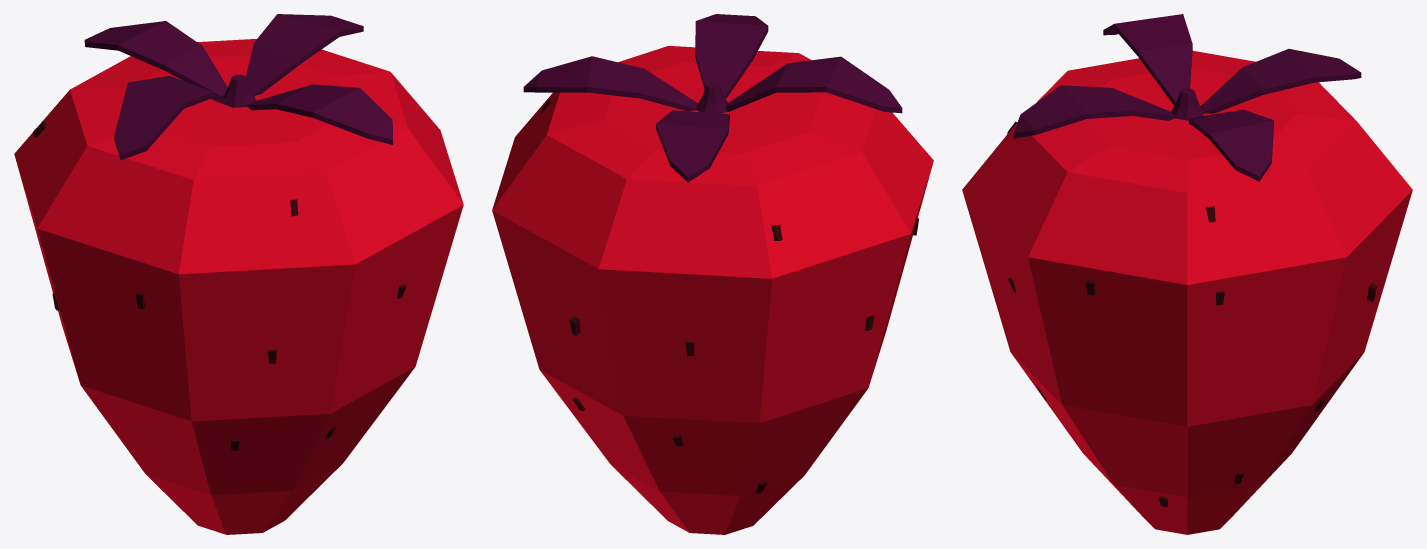
File: Strawberry_01.fbx
3 views of the same model, side by side, from view 1: azimuth 30°, elevation 25°; view 2: azimuth 150°, elevation 25°; view 3: azimuth 270°, elevation 25° (orthographic). The views are drawn at different scales.
Parts seen in each view (by area): view 1: Strawberry_01; view 2: Strawberry_01; view 3: Strawberry_01.
Part boxes in pixels (x1=…): Strawberry_01: x1=14, y1=14, x2=463, y2=534; Strawberry_01: x1=492, y1=14, x2=933, y2=534; Strawberry_01: x1=962, y1=14, x2=1412, y2=534.
Size of the model in its own units: 4.58 by 5.22 by 4.58.
